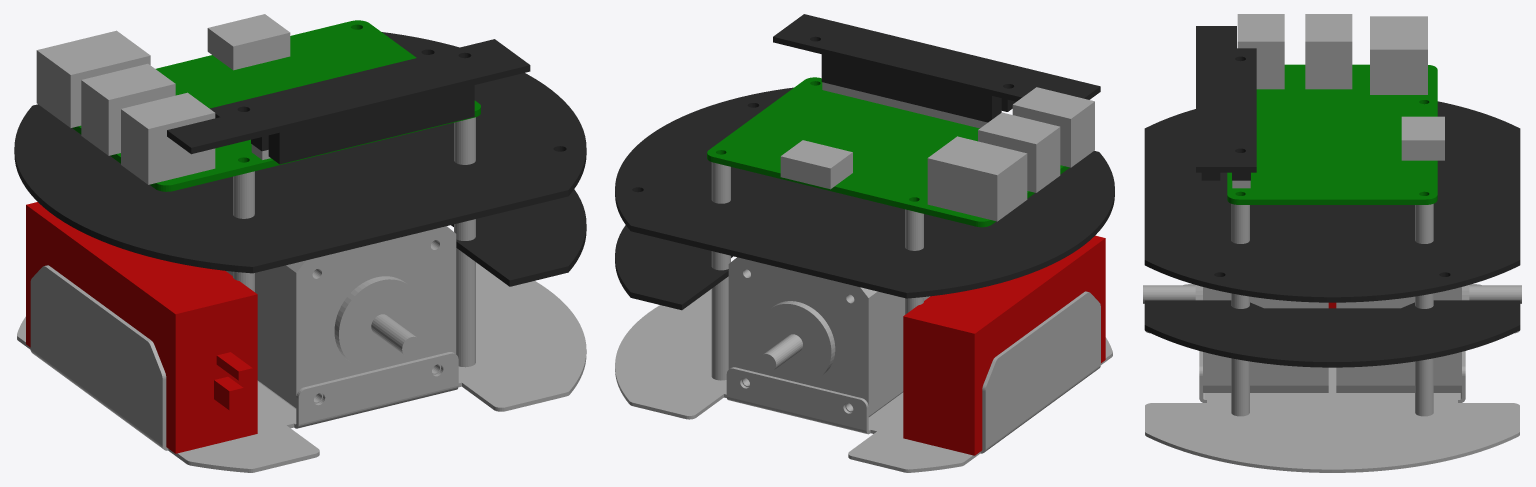
Rendered from RasPiMouse_body.dae.
3 renders of one model, left to right at view 1: azimuth 30°, elevation 25°; view 2: azimuth 150°, elevation 25°; view 3: azimuth 270°, elevation 25°, orthographic. The views are drawn at different scales.
Visible parts, largest first — view 1: RasPiMouse_body_gray, RasPiMouse_base_black, RasPiMouse_body_red, RasPiMouse_body_green; view 2: RasPiMouse_body_gray, RasPiMouse_base_black, RasPiMouse_body_red, RasPiMouse_body_green; view 3: RasPiMouse_base_black, RasPiMouse_body_gray, RasPiMouse_body_green.
Part boxes in pixels (x1=…): RasPiMouse_body_gray: x1=17, y1=14, x2=586, y2=472; RasPiMouse_base_black: x1=14, y1=32, x2=586, y2=286; RasPiMouse_body_red: x1=26, y1=202, x2=257, y2=453; RasPiMouse_body_green: x1=72, y1=20, x2=480, y2=191; RasPiMouse_body_gray: x1=615, y1=82, x2=1112, y2=472; RasPiMouse_base_black: x1=615, y1=14, x2=1114, y2=310; RasPiMouse_body_red: x1=903, y1=235, x2=1105, y2=455; RasPiMouse_body_green: x1=707, y1=77, x2=1069, y2=227; RasPiMouse_base_black: x1=1144, y1=26, x2=1520, y2=367; RasPiMouse_body_gray: x1=1143, y1=14, x2=1521, y2=472; RasPiMouse_body_green: x1=1227, y1=64, x2=1437, y2=204.
Size of the model in its own units: 0.13 by 0.101 by 0.0793.
